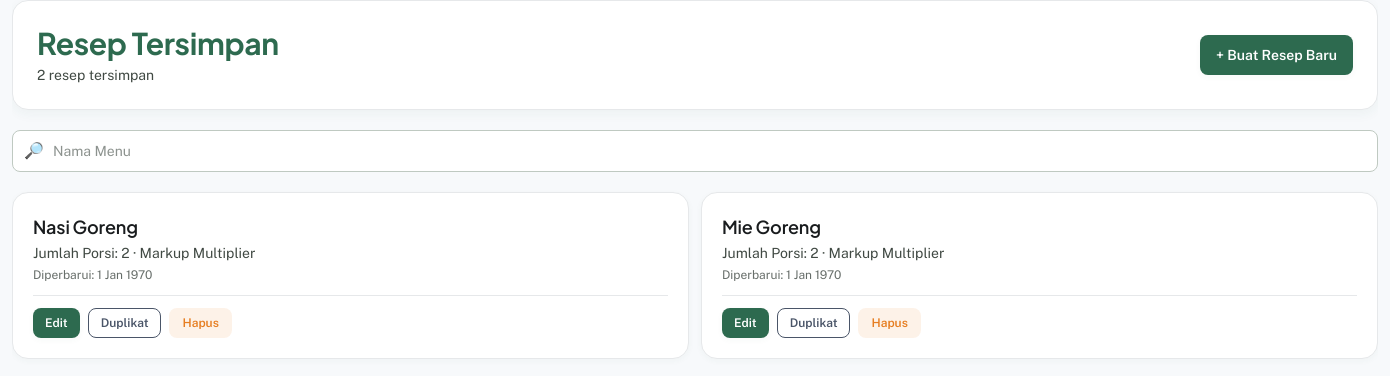
Test case: SavedRecipesPage › search filters recipes by name
This screenshot has width=1390, height=376.
Expected: the heading "Nasi Goreng" is shown, [33,215,138,238]
In the field labelled "Nama Menu": (695,151) [12,130,1378,172], type "Mie"
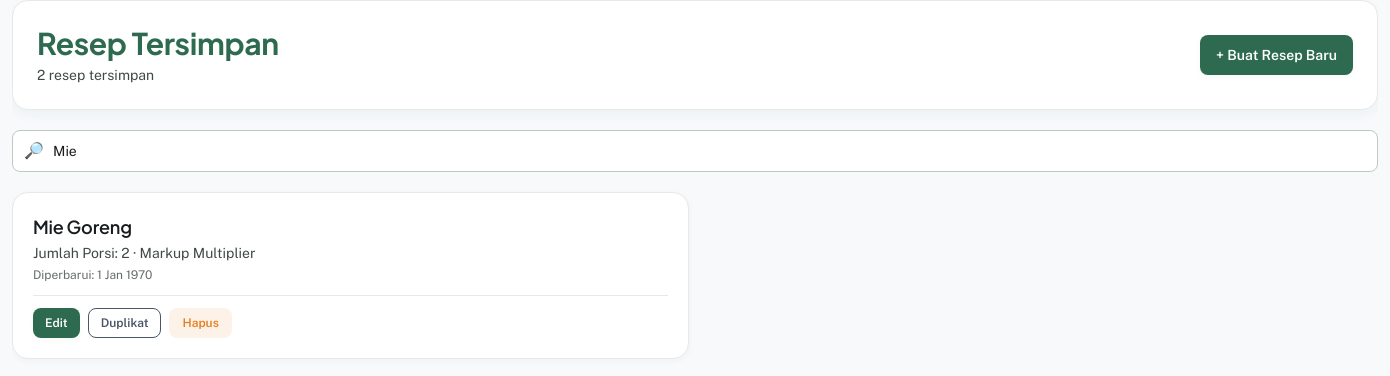
Expected: the heading "Mie Goreng" is shown, [33,215,132,238]
Expected: the heading "Nasi Goreng" is gone
